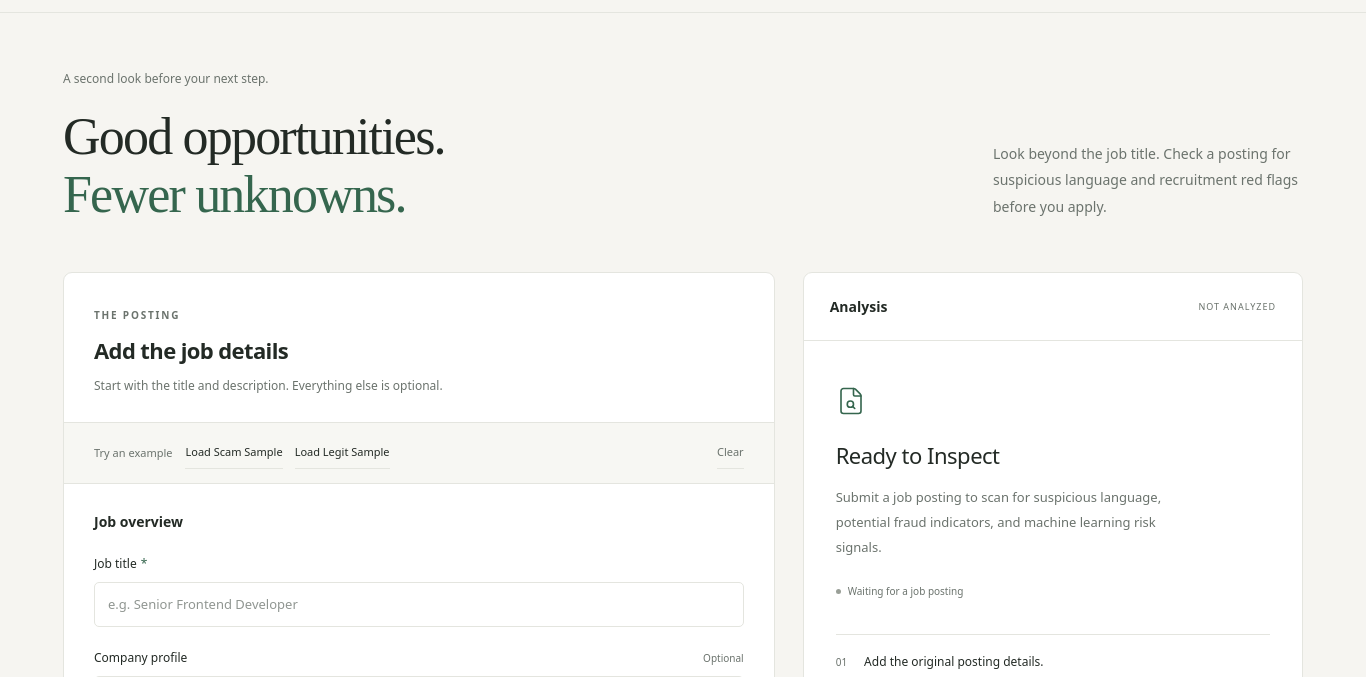
workspace › renders legitimate prediction and empty warning state
Click the button "Load Legit Sample": {"x": 342, "y": 453} [295, 437, 390, 469]
(page scrolled)
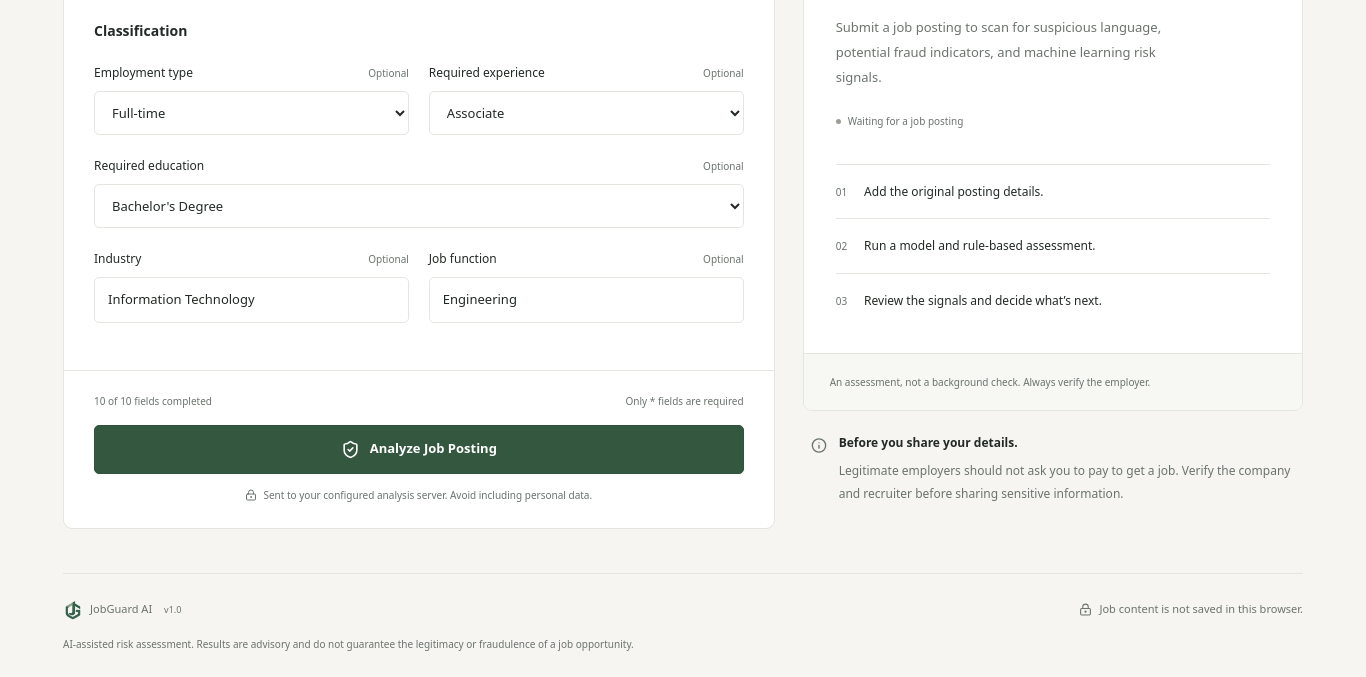
Click the button "Analyze Job Posting": {"x": 419, "y": 449} [94, 424, 744, 474]
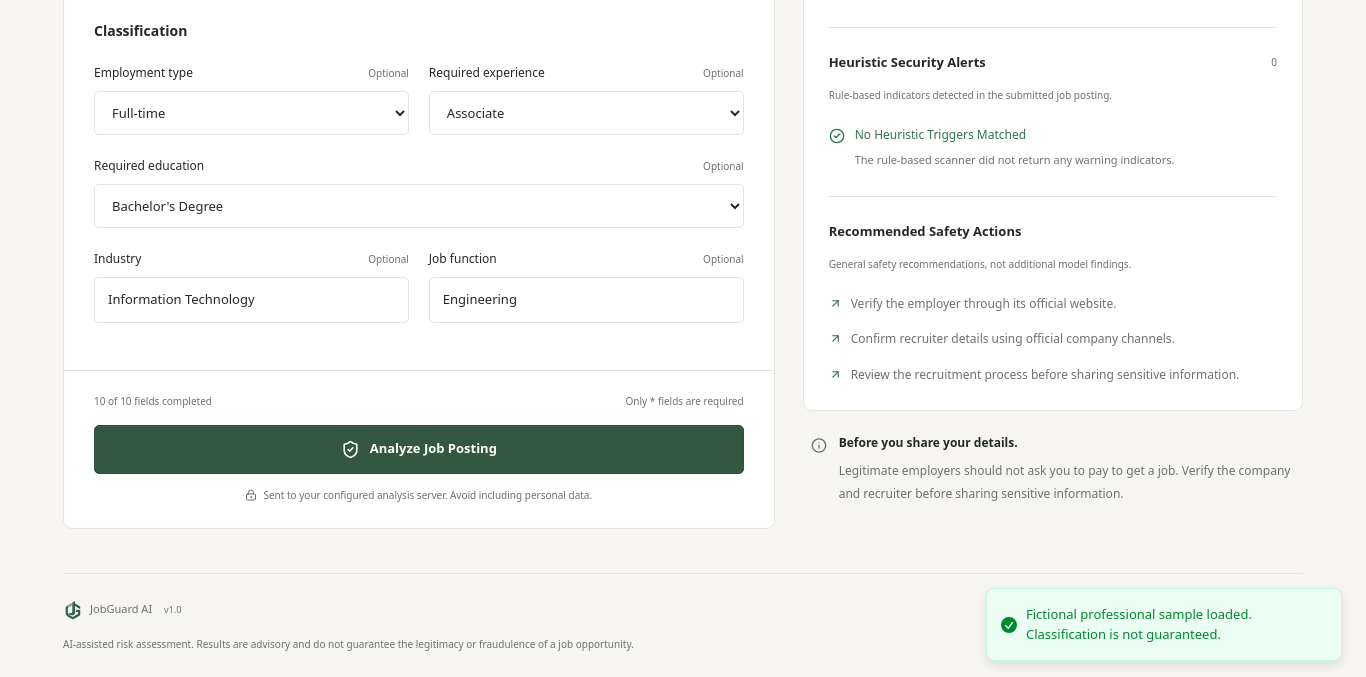
Expected: the text "No Heuristic Triggers Matched" is shown, [855, 125, 1026, 142]
